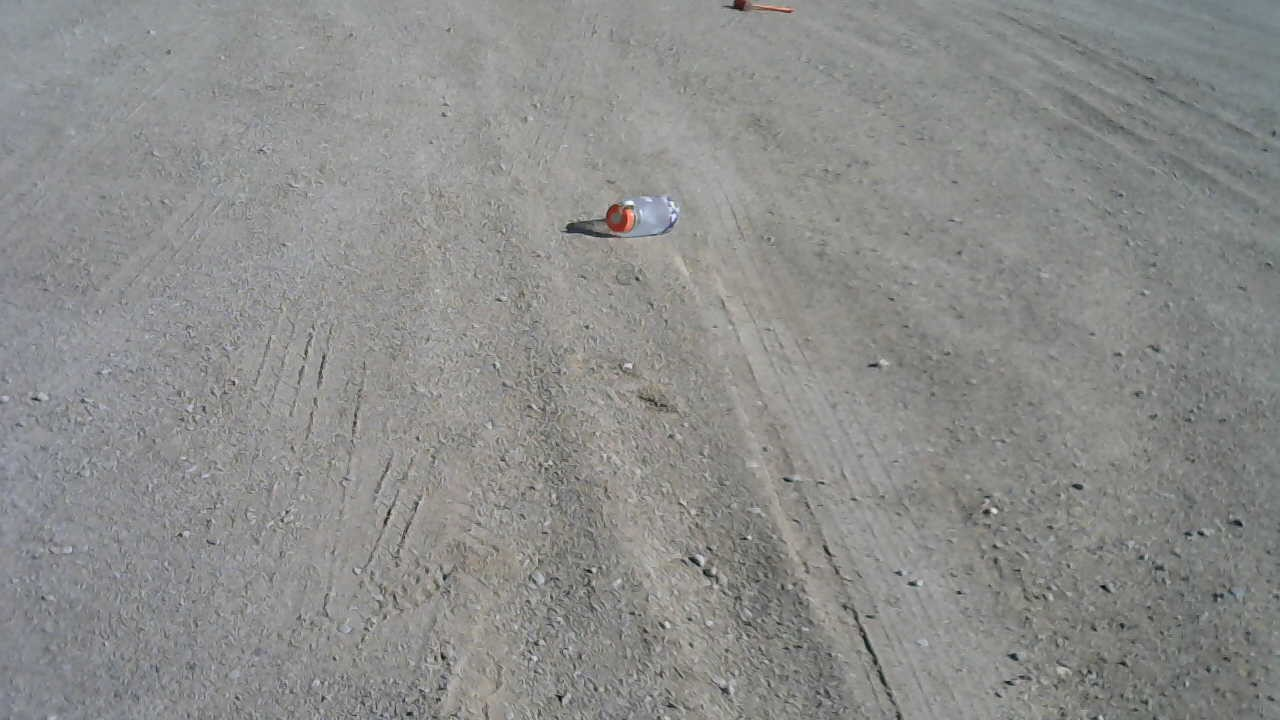bottle: (601, 188, 684, 238)
